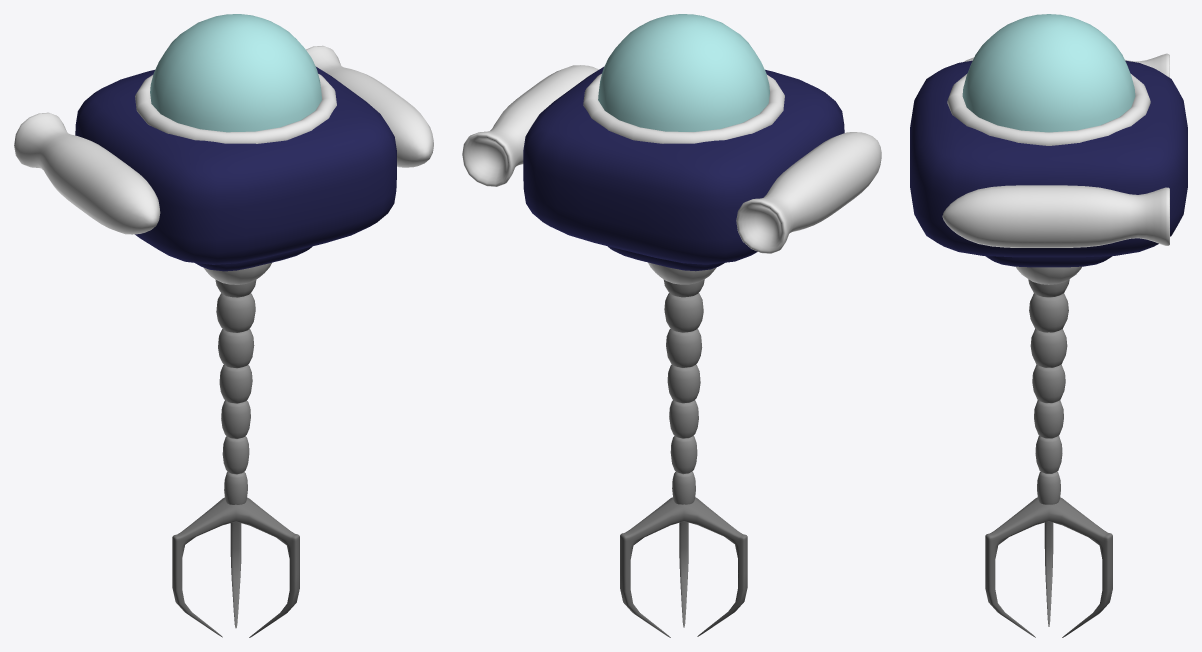
File: GoldStealingRobot Seperated.fbx
3 views of the same model, side by side, from view 1: azimuth 30°, elevation 25°; view 2: azimuth 150°, elevation 25°; view 3: azimuth 270°, elevation 25° (orthographic).
Parts seen in each view (by area): view 1: polySurface11, polySurface9, polySurface2, polySurface4, polySurface8, polySurface7, polySurface5, polySurface10, polySurface1, polySurface6; view 2: polySurface11, polySurface9, polySurface2, polySurface4, polySurface8, polySurface7, polySurface5, polySurface10, polySurface1, polySurface6; view 3: polySurface11, polySurface9, polySurface2, polySurface4, polySurface1, polySurface8, polySurface7, polySurface5, polySurface10, polySurface6, polySurface3.
Boxes of the visible parts, x1,y1,x2,y2 form: polySurface11: [14, 14, 433, 264]; polySurface9: [172, 497, 299, 637]; polySurface2: [216, 293, 255, 332]; polySurface4: [218, 329, 254, 368]; polySurface8: [219, 365, 252, 403]; polySurface7: [221, 400, 250, 438]; polySurface5: [222, 436, 249, 474]; polySurface10: [203, 262, 271, 284]; polySurface1: [195, 246, 312, 271]; polySurface6: [224, 472, 247, 504]; polySurface11: [462, 14, 881, 264]; polySurface9: [620, 497, 747, 637]; polySurface2: [664, 293, 703, 332]; polySurface4: [666, 328, 702, 367]; polySurface8: [667, 364, 700, 403]; polySurface7: [669, 400, 698, 438]; polySurface5: [670, 436, 697, 474]; polySurface10: [648, 262, 716, 284]; polySurface1: [608, 246, 724, 271]; polySurface6: [672, 471, 695, 504]; polySurface11: [910, 14, 1187, 257]; polySurface9: [985, 497, 1112, 637]; polySurface2: [1029, 293, 1068, 332]; polySurface4: [1030, 329, 1067, 367]; polySurface1: [985, 256, 1112, 267]; polySurface8: [1032, 364, 1065, 403]; polySurface7: [1034, 400, 1063, 438]; polySurface5: [1035, 436, 1062, 473]; polySurface10: [1016, 266, 1081, 284]; polySurface6: [1037, 471, 1060, 504]; polySurface3: [1028, 279, 1069, 297].
Bounding box in the file's own units: 19.2 × 34.27 × 14.1.
